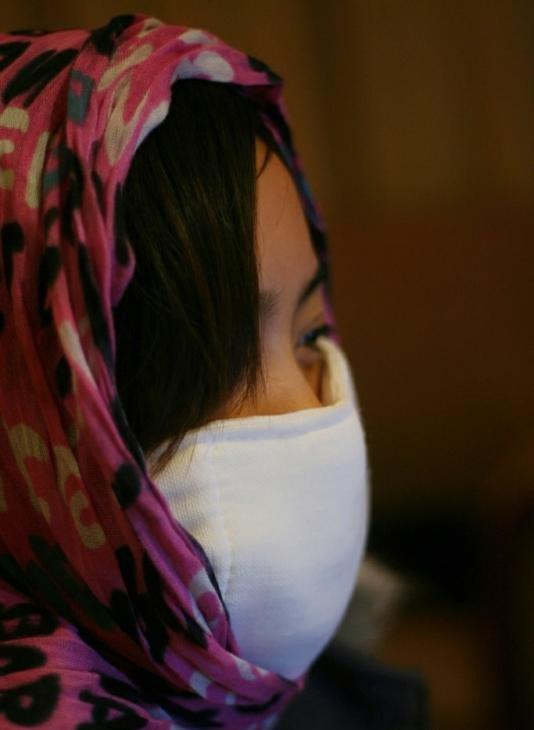OK: (1, 222, 384, 681)
